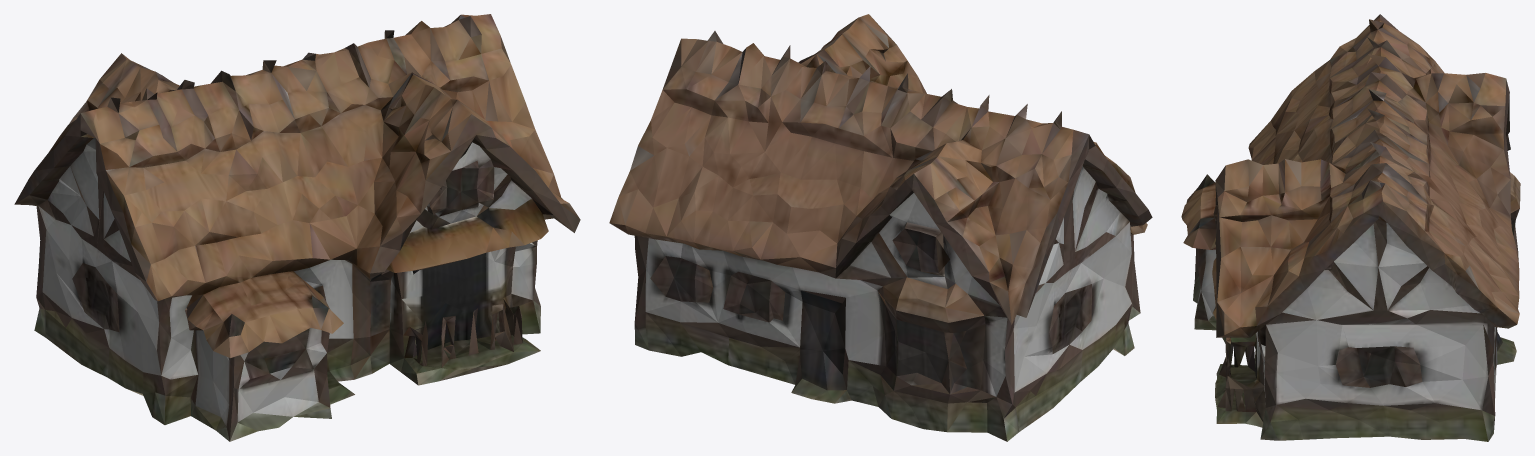
Rendered from thatched_cottage_low.glb.
The picture shows the model from 3 angles, left to right: view 1: azimuth 30°, elevation 25°; view 2: azimuth 150°, elevation 25°; view 3: azimuth 270°, elevation 25°; orthographic projection. The views are drawn at different scales.
Visible parts, largest first — view 1: m; view 2: m; view 3: m.
Boxes of the visible parts, x1=… form: m: x1=14, y1=14, x2=580, y2=441; m: x1=609, y1=14, x2=1152, y2=441; m: x1=1181, y1=14, x2=1520, y2=441.
Size of the model in its own units: 10.08 by 6.5 by 7.71.
Materials: 1 (1 with a texture image).
